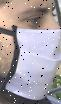with_mask: (2, 1, 61, 104)
